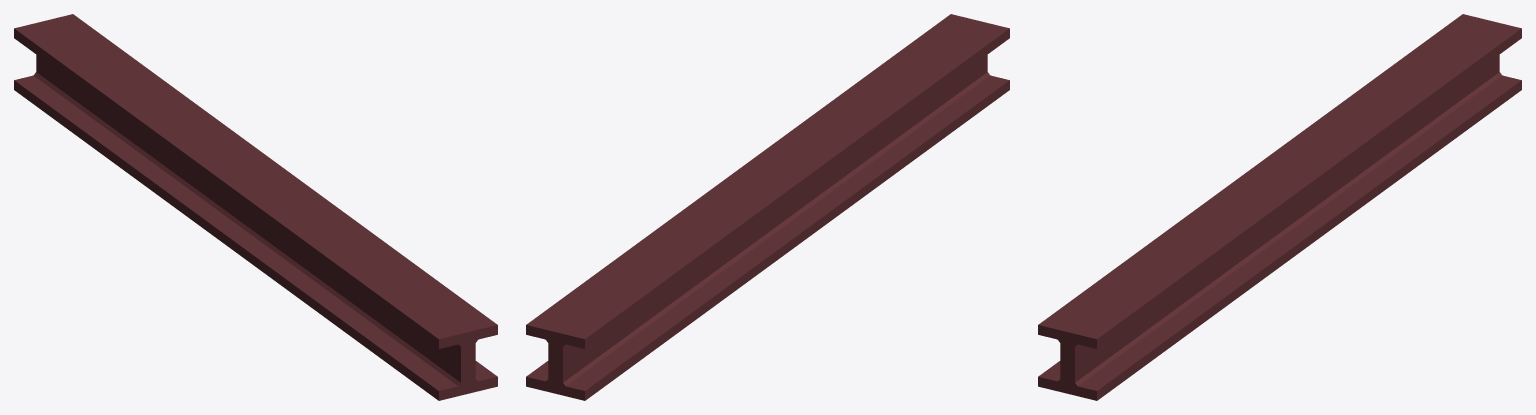
File: LowPolyMetalBeam.fbx
3 renders of one model, left to right at view 1: azimuth 30°, elevation 25°; view 2: azimuth 150°, elevation 25°; view 3: azimuth 330°, elevation 25°, orthographic.
Parts seen in each view (by area): view 1: Cube; view 2: Cube; view 3: Cube.
Boxes of the visible parts, x1,y1,x2,y2 form: Cube: (14,14,497,400); Cube: (526,14,1009,400); Cube: (1038,14,1521,400).
Bounding box in the file's own units: 77.84 × 77.84 × 971.
